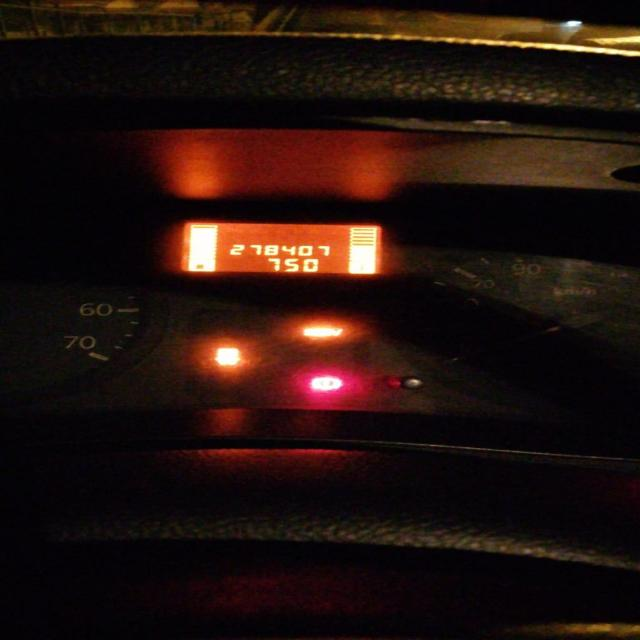odometer: (177, 221, 382, 275)
